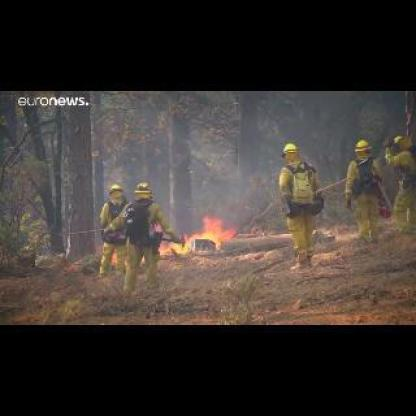fire: (160, 216, 242, 258)
